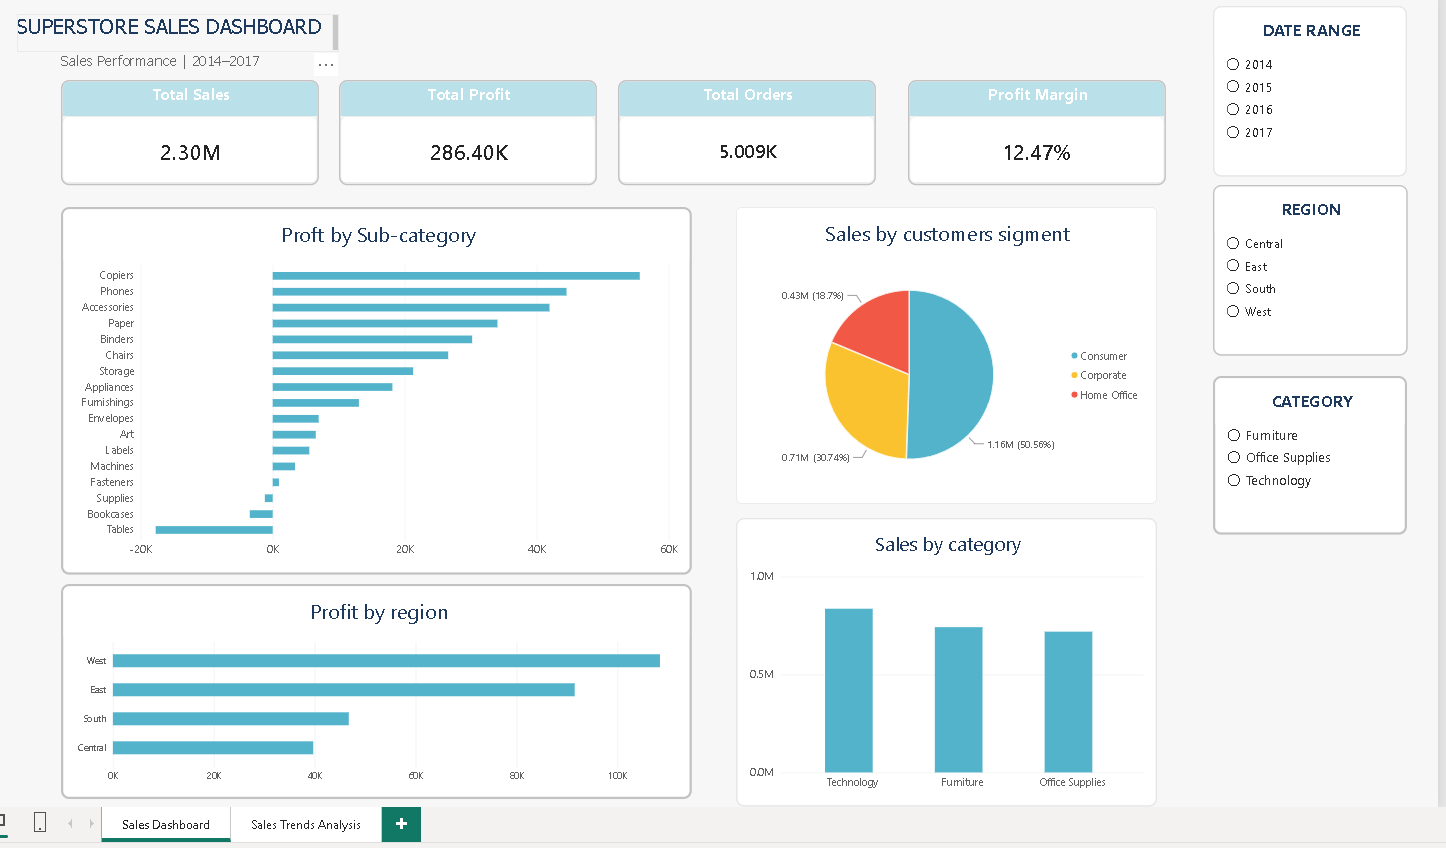

The dashboard page shown, as its layout file describes it:
{"tool":"powerbi","page":{"name":"Sales Dashboard","canvas":[1920,1080],"ordinal":0},"visuals":[{"type":"cardVisual","title":"Total Sales","fields":{"Data":["Sum(public superstore.sales)"]},"box":[89.1,113.1,343.2,139.7],"z":0},{"type":"cardVisual","title":"Total Profit","fields":{"Data":["Sum(public superstore.profit)"]},"box":[458.9,113.1,343.2,139.7],"z":1},{"type":"cardVisual","title":"Total Orders","fields":{"Data":["Count(public superstore.order_id)"]},"box":[830,113.1,343.2,139.7],"z":2},{"type":"cardVisual","title":"Profit Margin","fields":{"Data":["public superstore.Profit Margin"]},"box":[1215.7,113.1,343.2,139.7],"z":3},{"type":"clusteredColumnChart","title":"Sales by category","fields":{"Category":["public superstore.category"],"Y":["Sum(public superstore.sales)"]},"box":[986.9,695.6,560,384.4],"z":4},{"type":"clusteredBarChart","title":"Profit by region","fields":{"Category":["public superstore.region"],"Y":["Sum(public superstore.profit)"]},"box":[89.1,783.4,839.3,286],"z":5},{"type":"clusteredBarChart","title":"Proft by Sub-category","fields":{"Category":["public superstore.sub_category"],"Y":["Sum(public superstore.profit)"]},"box":[89.1,282,839.3,489.5],"z":6},{"type":"textbox","box":[31.1,25.7,427.9,50.1],"z":7},{"type":"textbox","box":[89.1,75.8,305.9,35.9],"z":8},{"type":"listSlicer","title":"DATE RANGE","fields":{"Values":["public superstore.order_date.Variation.Hiérarchie de dates.Année"]},"box":[1621.3,14.6,258,227.4],"z":9},{"type":"listSlicer","title":"REGION","fields":{"Values":["public superstore.region"]},"box":[1621.3,252.7,258.6,227.5],"z":10},{"type":"listSlicer","title":"CATEGORY","fields":{"Values":["public superstore.category"]},"box":[1621.3,506.7,258,211.5],"z":11},{"type":"pieChart","title":"Sales by customers sigment","fields":{"Category":["public superstore.segment"],"Y":["Sum(public superstore.sales)"]},"box":[986.9,282,560,395],"z":12}]}

Visuals, with their boxes on the page's 1920x1080 design canvas (x1, y1, x2, y2). These are canvas units, not pixel positions in the 1446x848 screenshot, which may show the page scaled, cropped or inside an application window:
"Total Sales" cardVisual: (left=89, top=113, right=432, bottom=253)
"Total Profit" cardVisual: (left=459, top=113, right=802, bottom=253)
"Total Orders" cardVisual: (left=830, top=113, right=1173, bottom=253)
"Profit Margin" cardVisual: (left=1216, top=113, right=1559, bottom=253)
"Sales by category" clusteredColumnChart: (left=987, top=696, right=1547, bottom=1080)
"Profit by region" clusteredBarChart: (left=89, top=783, right=928, bottom=1069)
"Proft by Sub-category" clusteredBarChart: (left=89, top=282, right=928, bottom=772)
textbox: (left=31, top=26, right=459, bottom=76)
textbox: (left=89, top=76, right=395, bottom=112)
"DATE RANGE" listSlicer: (left=1621, top=15, right=1879, bottom=242)
"REGION" listSlicer: (left=1621, top=253, right=1880, bottom=480)
"CATEGORY" listSlicer: (left=1621, top=507, right=1879, bottom=718)
"Sales by customers sigment" pieChart: (left=987, top=282, right=1547, bottom=677)
